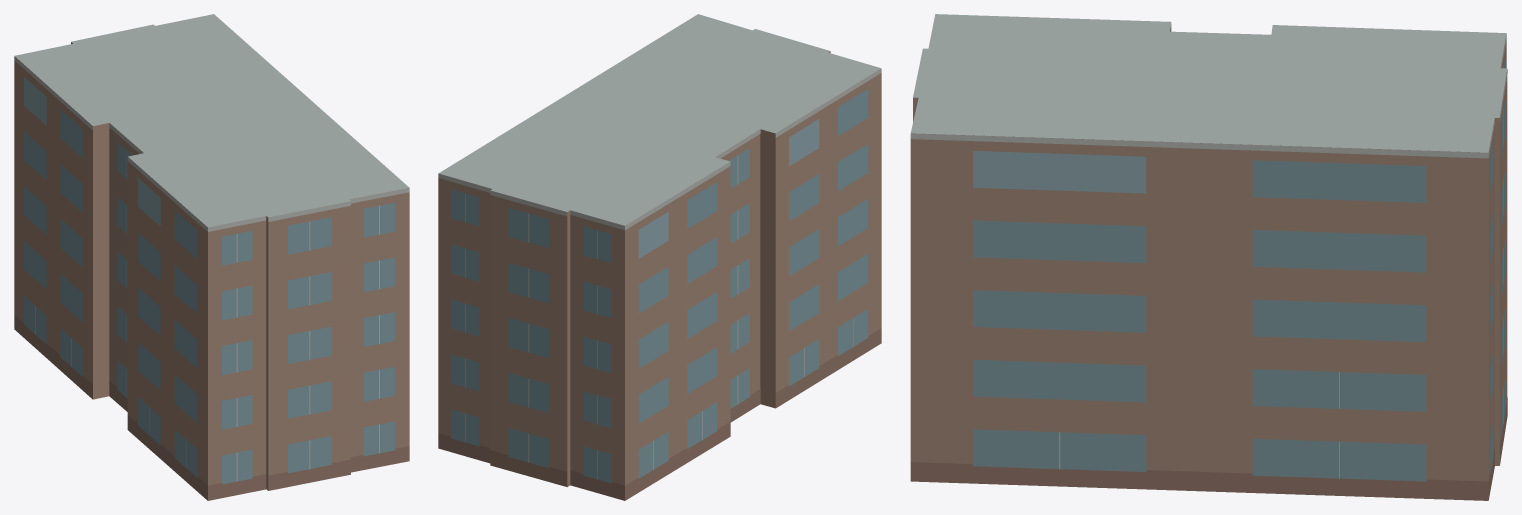
The model's file is survey-upis-32582988.glb.
3 views of the same model, side by side, from view 1: azimuth 30°, elevation 25°; view 2: azimuth 150°, elevation 25°; view 3: azimuth 270°, elevation 25° (orthographic). The views are drawn at different scales.
Visible parts, largest first — view 1: survey-upis-32582988.tmp; view 2: survey-upis-32582988.tmp; view 3: survey-upis-32582988.tmp.
Boxes of the visible parts, bbox=[...] form: survey-upis-32582988.tmp: bbox=[14, 14, 409, 500]; survey-upis-32582988.tmp: bbox=[438, 14, 881, 500]; survey-upis-32582988.tmp: bbox=[910, 14, 1507, 500].
Size of the model in its own units: 12.66 by 14.8 by 23.
